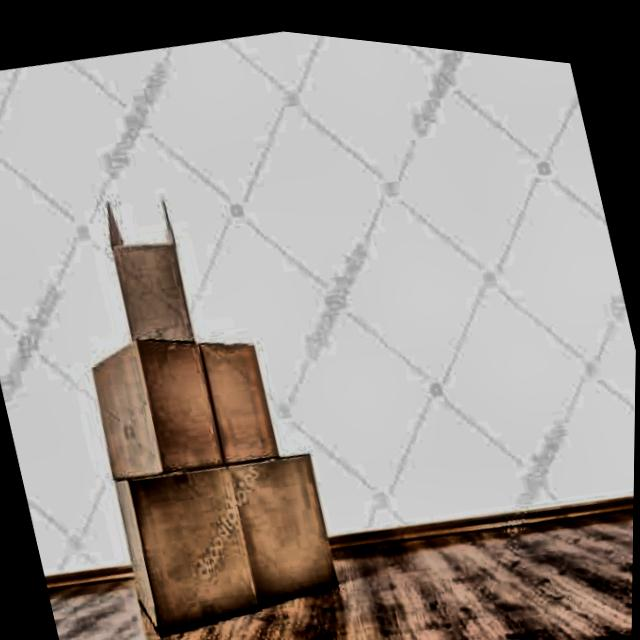Cardbox: (207, 416, 406, 640), (100, 437, 280, 640), (81, 169, 249, 359), (74, 317, 234, 498), (171, 297, 296, 473)
